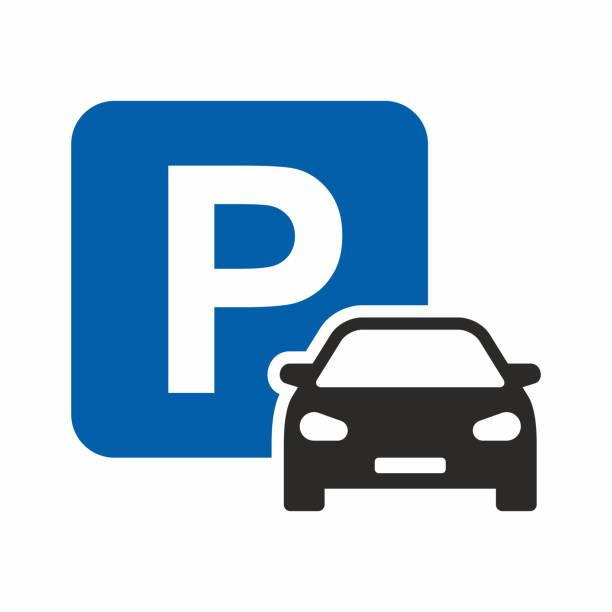Parking Lot Cars: (67, 90, 546, 525)
